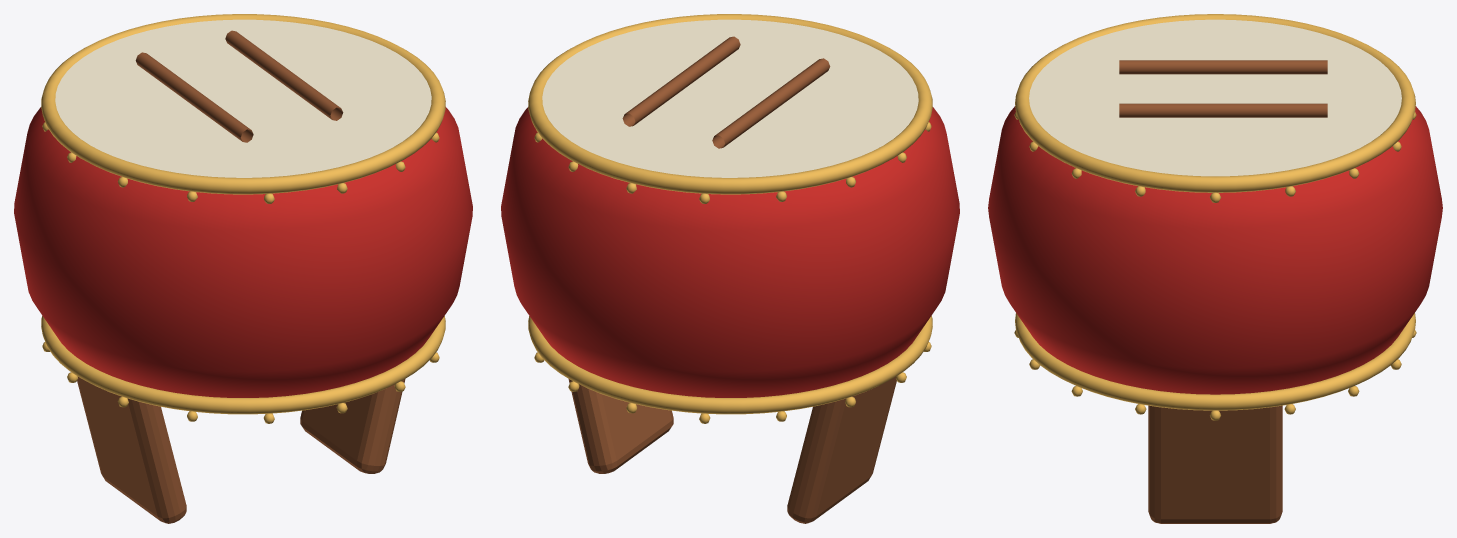
The model's file is stage-drum.glb.
3 views of the same model, side by side, from view 1: azimuth 30°, elevation 25°; view 2: azimuth 150°, elevation 25°; view 3: azimuth 270°, elevation 25° (orthographic).
Visible parts, largest first — view 1: stage-drum; view 2: stage-drum; view 3: stage-drum.
Part boxes in pixels (left/top/right/bottom): stage-drum: left=14, top=14, right=472, bottom=523; stage-drum: left=501, top=14, right=959, bottom=523; stage-drum: left=988, top=14, right=1442, bottom=523.
Bounding box in the file's own units: 1.42 × 1.35 × 1.42.
